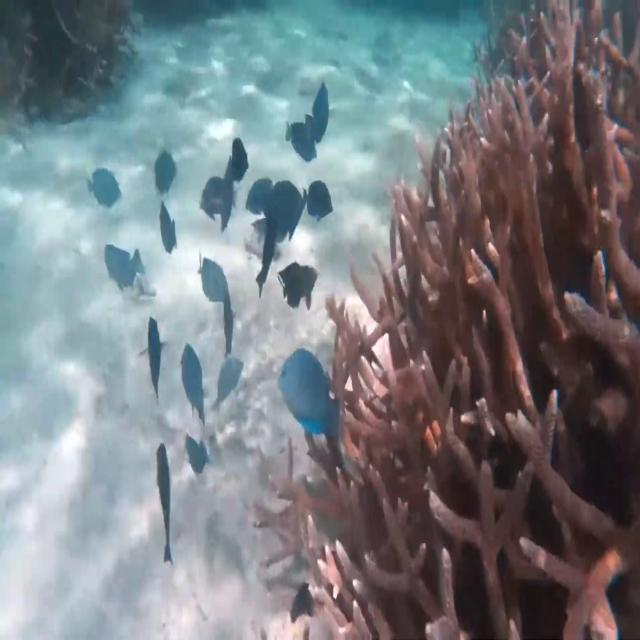Staghorn-Coral -Endangered-: (262, 0, 640, 640), (7, 0, 126, 112)
